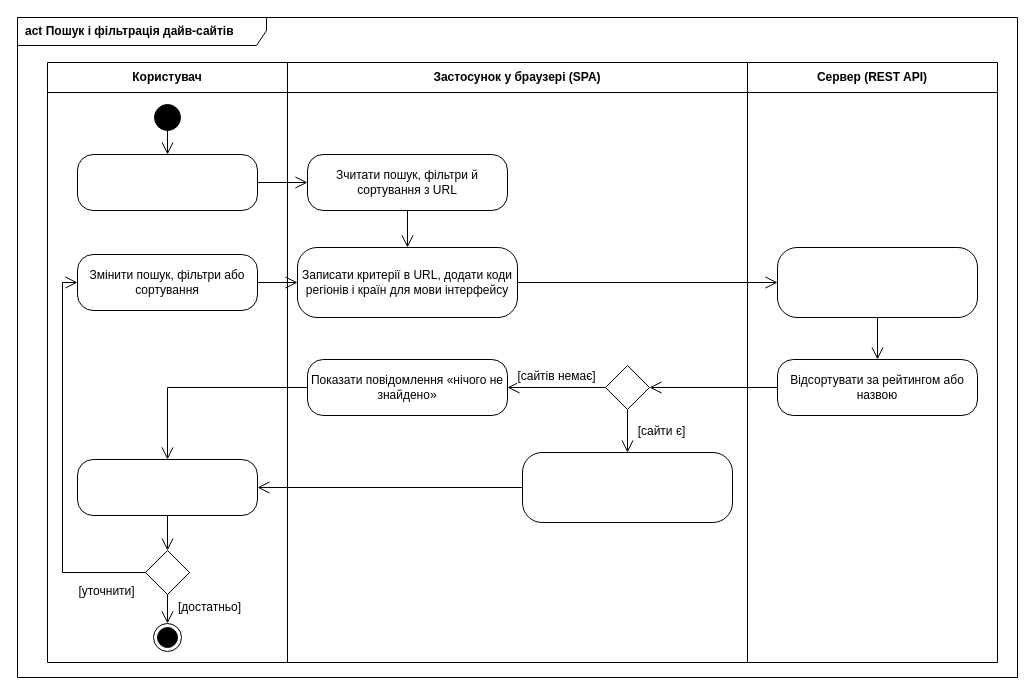
The diagram is 1035 pixels wide and 695 high, and some of its shapes have lost their labels. Each missing label, with the centre of its shape:
"Відкрити сторінку мапи" goes at point 167,182.
"Відібрати затверджені сайти за всіма критеріями" goes at point 877,282.
"Оновити маркери, список карток і кількість збігів" goes at point 627,487.
"Переглянути результат" goes at point 167,487.
